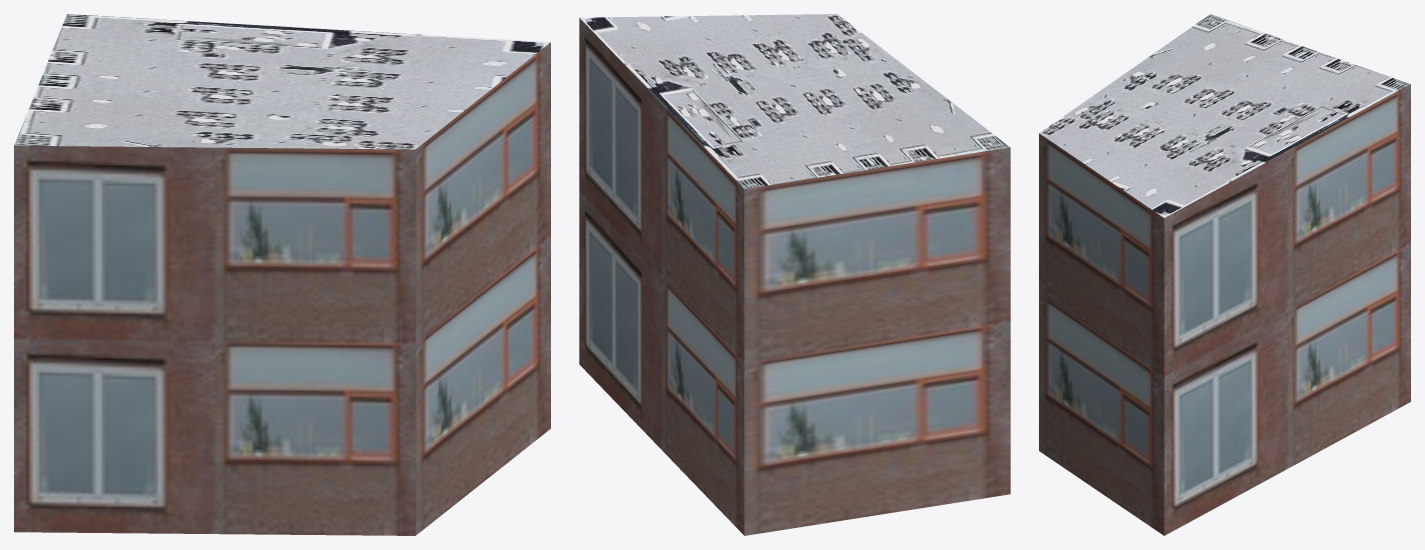
Rendered from ResTex__4130.fbx.
3 renders of one model, left to right at view 1: azimuth 30°, elevation 25°; view 2: azimuth 150°, elevation 25°; view 3: azimuth 270°, elevation 25°, orthographic. The views are drawn at different scales.
Parts seen in each view (by area): view 1: CityEngineMaterial_19_m, CityEngineMaterial_15_m; view 2: CityEngineMaterial_19_m, CityEngineMaterial_15_m; view 3: CityEngineMaterial_19_m, CityEngineMaterial_15_m.
Boxes of the visible parts, x1,y1,x2,y2 form: CityEngineMaterial_19_m: (14,42,550,535); CityEngineMaterial_15_m: (14,14,550,149); CityEngineMaterial_19_m: (579,18,1010,535); CityEngineMaterial_15_m: (580,14,1010,189); CityEngineMaterial_19_m: (1039,84,1410,535); CityEngineMaterial_15_m: (1039,14,1410,217).
Bounding box in the file's own units: 8.27 × 6 × 6.36.
Materials: 2 (2 with a texture image).
